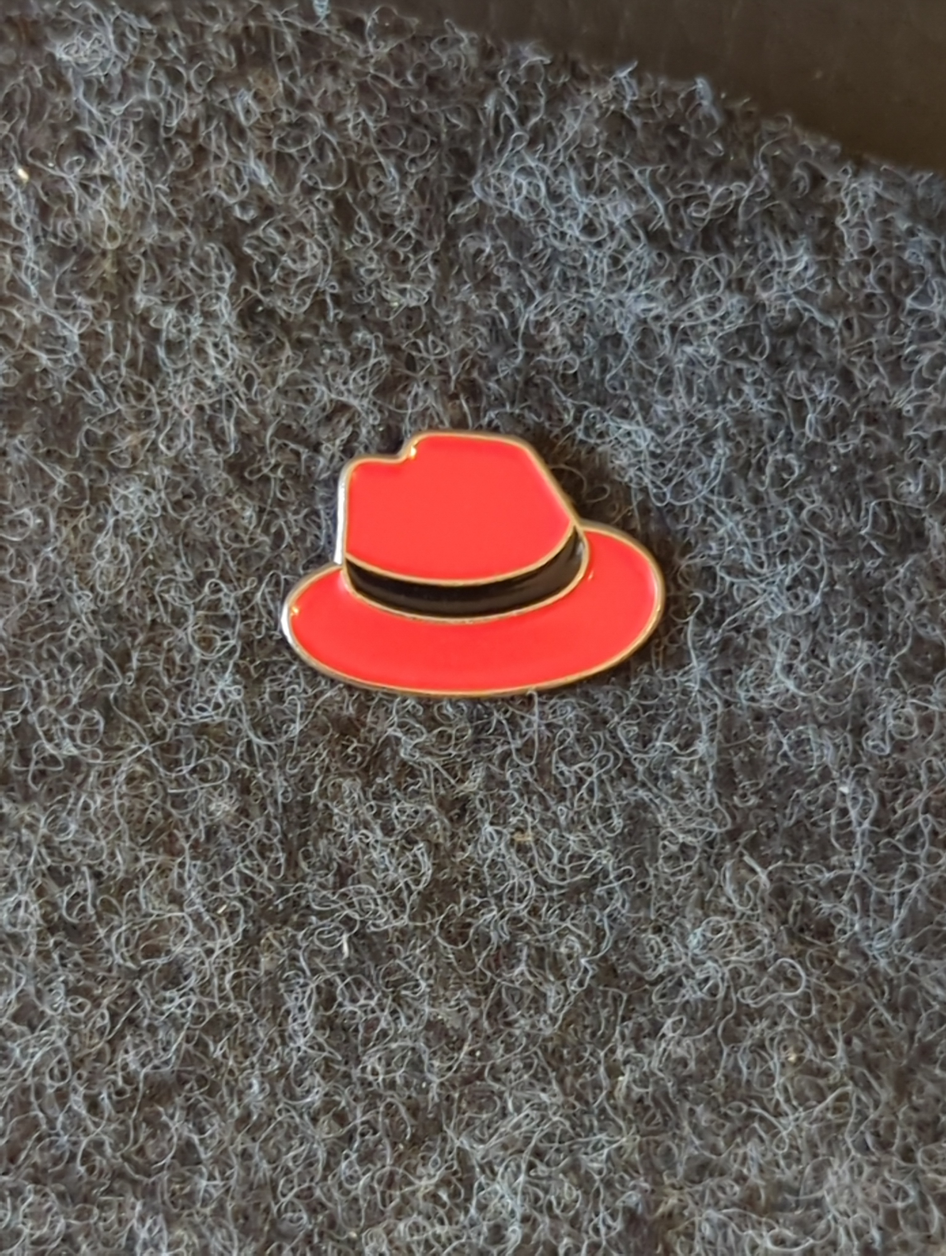Red-Hat: (200, 342, 825, 840)
